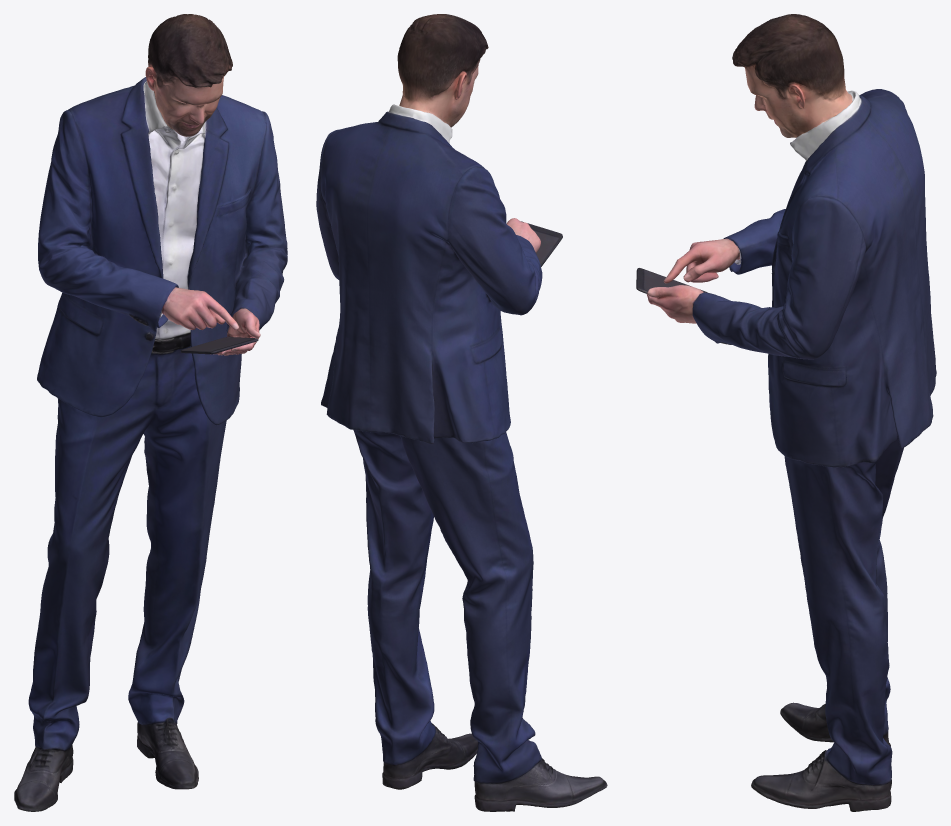
The model's file is person_man.glb.
3 renders of one model, left to right at view 1: azimuth 30°, elevation 25°; view 2: azimuth 150°, elevation 25°; view 3: azimuth 270°, elevation 25°, orthographic. The views are drawn at different scales.
Parts seen in each view (by area): view 1: rw0220010; view 2: rw0220010; view 3: rw0220010.
Boxes of the visible parts, <box> form: rw0220010: <box>14,14,287,811</box>; rw0220010: <box>316,14,607,811</box>; rw0220010: <box>636,14,936,811</box>.
Size of the model in its own units: 0.6621 by 1.75 by 0.607.
Materials: 1 (1 with a texture image).
